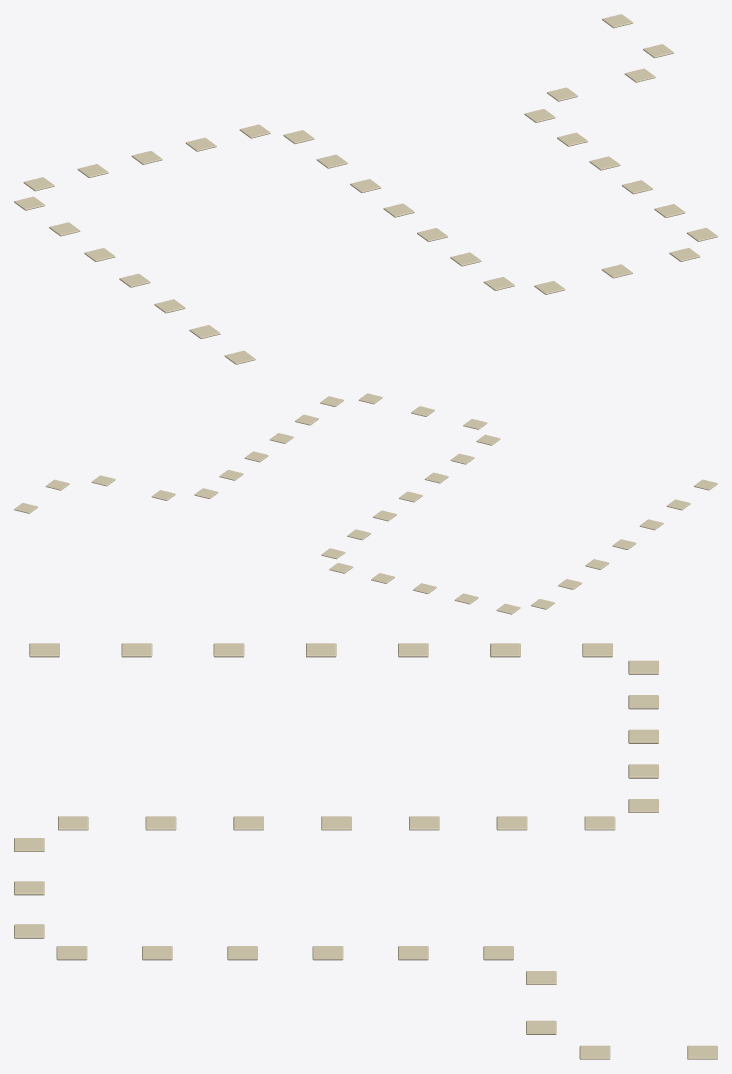
3 views of the same model, one above another, from view 1: azimuth 30°, elevation 25°; view 2: azimuth 150°, elevation 25°; view 3: azimuth 270°, elevation 25° (orthographic). The views are drawn at different scales.
Parts seen in each view (by area): view 1: ai_export.018; view 2: ai_export.018; view 3: ai_export.018.
Boxes of the visible parts, box(x1,y1,x2,y2) form: ai_export.018: box(14, 14, 717, 364); ai_export.018: box(14, 393, 717, 614); ai_export.018: box(14, 643, 717, 1059).
Size of the model in its own units: 9.6 by 0.022 by 6.88.
